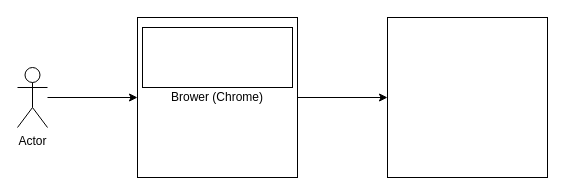
Image size: 565x195. Some labels were removed from this diagram. Each missing label, with the centre of its shape:
"https://www.google.com" goes at [217,57].
"Web Server" goes at [467,97].
